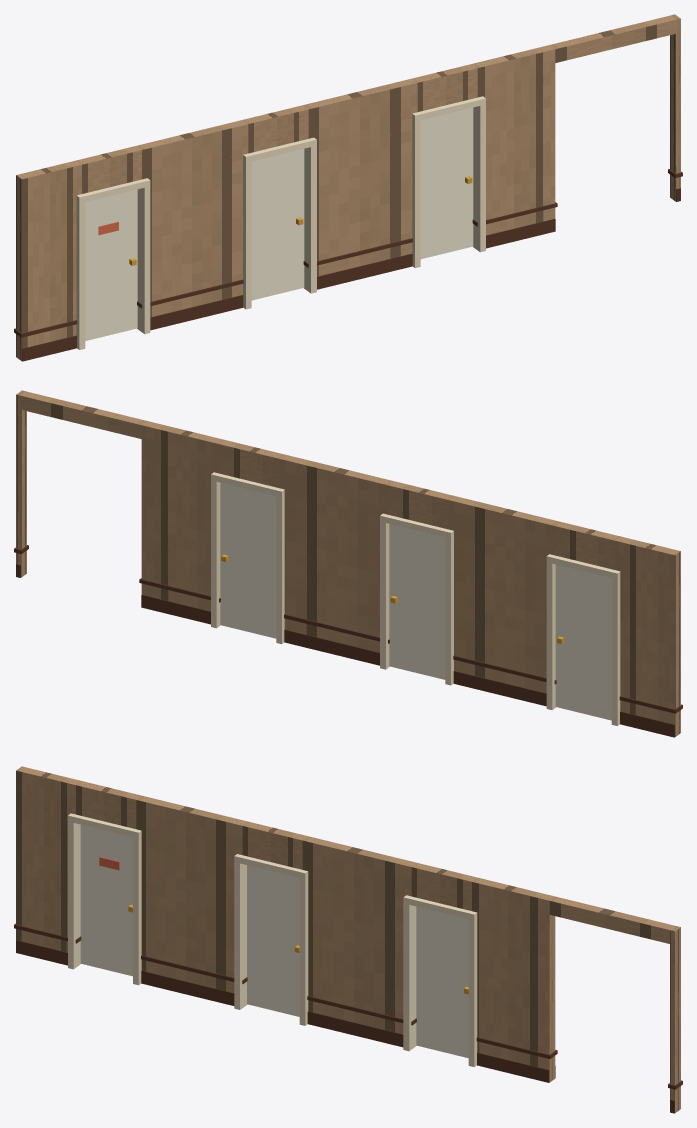
The model's file is hall_back.glb.
3 renders of one model, top to bottom at view 1: azimuth 30°, elevation 25°; view 2: azimuth 150°, elevation 25°; view 3: azimuth 330°, elevation 25°, orthographic.
Visible parts, largest first — view 1: Box5, Box3, Box7, Box1, Box25, Box31, Box18, Box14, Box12, Box13, Box11, Box16 (+15 smaller); view 2: Box5, Box3, Box7, Box1, Box25, Box31, Box18, Box14, Box12, Box13, Box11, Box9 (+15 smaller); view 3: Box5, Box3, Box7, Box1, Box25, Box31, Box18, Box14, Box13, Box11, Box12, Box28 (+15 smaller).
Part boxes in pixels (left/top/right/bottom): Box5: left=303, top=78, right=417, bottom=273; Box3: left=136, top=120, right=248, bottom=317; Box7: left=472, top=45, right=555, bottom=235; Box1: left=16, top=160, right=81, bottom=360; Box25: left=251, top=149, right=304, bottom=300; Box31: left=420, top=107, right=473, bottom=259; Box18: left=85, top=189, right=137, bottom=340; Box14: left=550, top=15, right=675, bottom=62; Box12: left=243, top=105, right=308, bottom=153; Box13: left=412, top=64, right=477, bottom=111; Box11: left=76, top=146, right=141, bottom=193; Box16: left=137, top=178, right=150, bottom=334; Box5: left=279, top=454, right=393, bottom=642; Box3: left=448, top=496, right=560, bottom=693; Box7: left=141, top=421, right=224, bottom=611; Box1: left=615, top=536, right=680, bottom=736; Box25: left=389, top=524, right=445, bottom=679; Box31: left=220, top=482, right=276, bottom=638; Box18: left=555, top=564, right=611, bottom=720; Box14: left=21, top=391, right=146, bottom=438; Box12: left=388, top=481, right=453, bottom=529; Box13: left=219, top=440, right=284, bottom=487; Box11: left=555, top=522, right=620, bottom=569; Box9: left=16, top=390, right=26, bottom=577; Box5: left=302, top=836, right=416, bottom=1034; Box3: left=136, top=795, right=247, bottom=992; Box7: left=472, top=877, right=555, bottom=1082; Box1: left=16, top=766, right=81, bottom=952; Box25: left=247, top=865, right=299, bottom=1016; Box31: left=416, top=906, right=468, bottom=1058; Box18: left=80, top=824, right=132, bottom=976; Box14: left=549, top=896, right=675, bottom=943; Box13: left=411, top=863, right=477, bottom=910; Box11: left=76, top=781, right=141, bottom=828; Box12: left=242, top=821, right=307, bottom=869; Box28: left=403, top=895, right=416, bottom=1051.
Bounding box in the file's own units: 9.89 × 2.6 × 0.3.
Materials: 6 (1 with a texture image).
